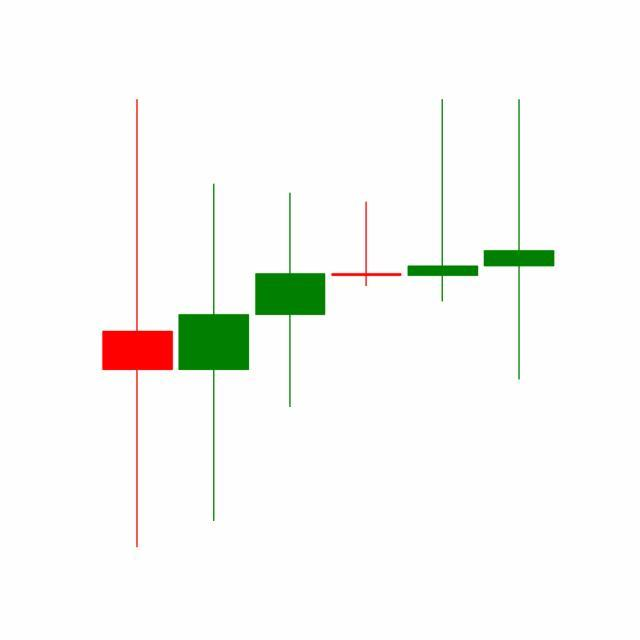Spinning Top: (404, 97, 482, 305)
